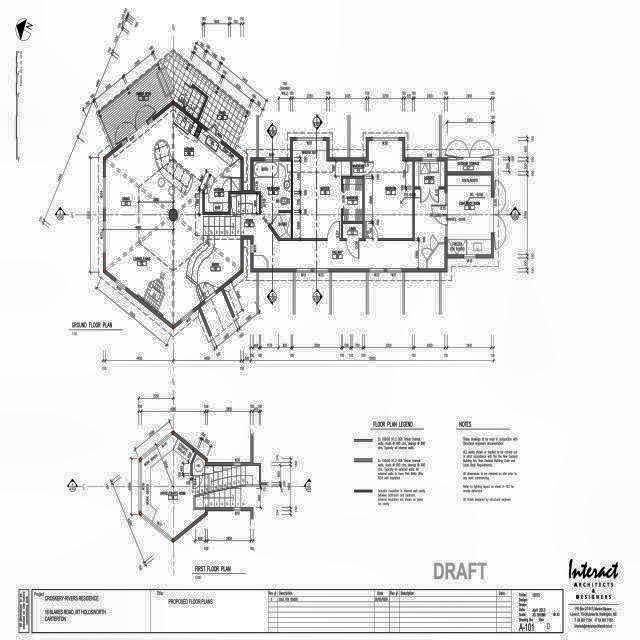room: (52, 93, 295, 336), (203, 189, 445, 269), (116, 431, 228, 544), (293, 141, 350, 238), (364, 141, 413, 238), (192, 454, 259, 507), (447, 175, 491, 254), (253, 161, 291, 239), (343, 179, 362, 221), (415, 161, 445, 187), (230, 194, 259, 213), (447, 160, 492, 172), (343, 224, 363, 238), (352, 161, 362, 176)
